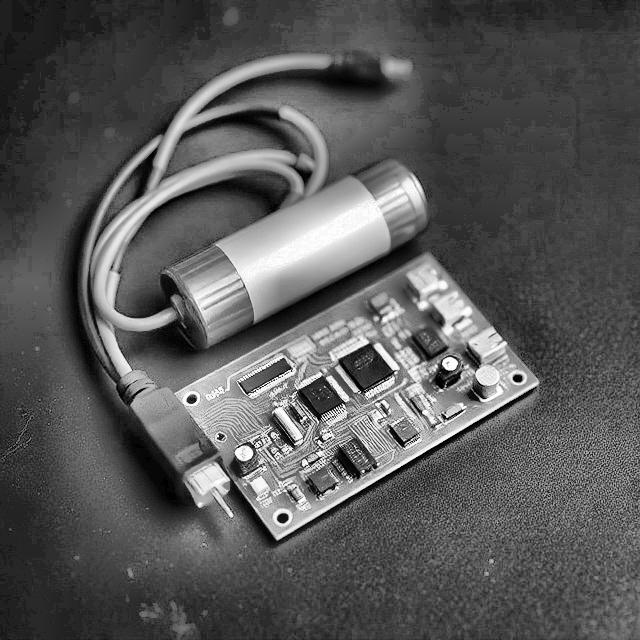Cable: (64, 53, 415, 523), (164, 149, 443, 347)
PCB: (173, 252, 541, 541)
